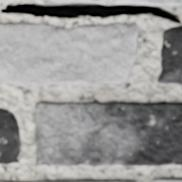brick: (35, 101, 181, 165), (0, 22, 136, 84), (157, 25, 181, 83), (0, 107, 19, 163), (106, 0, 181, 5), (0, 179, 135, 181), (152, 177, 181, 181)
crack: (1, 0, 180, 23)
